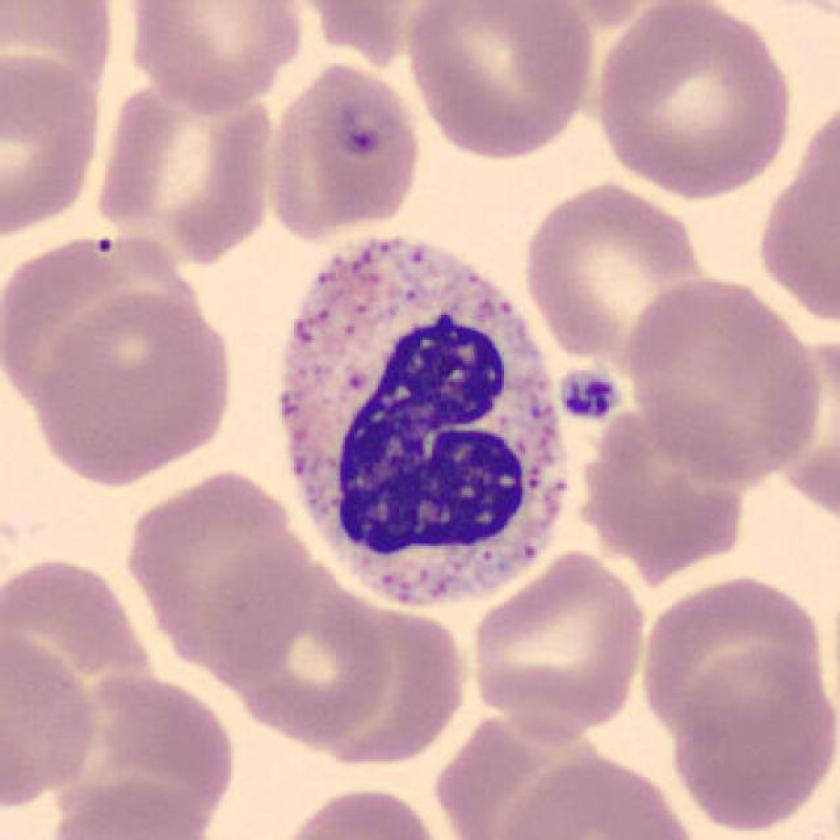neutrophil: (282, 239, 568, 608)
